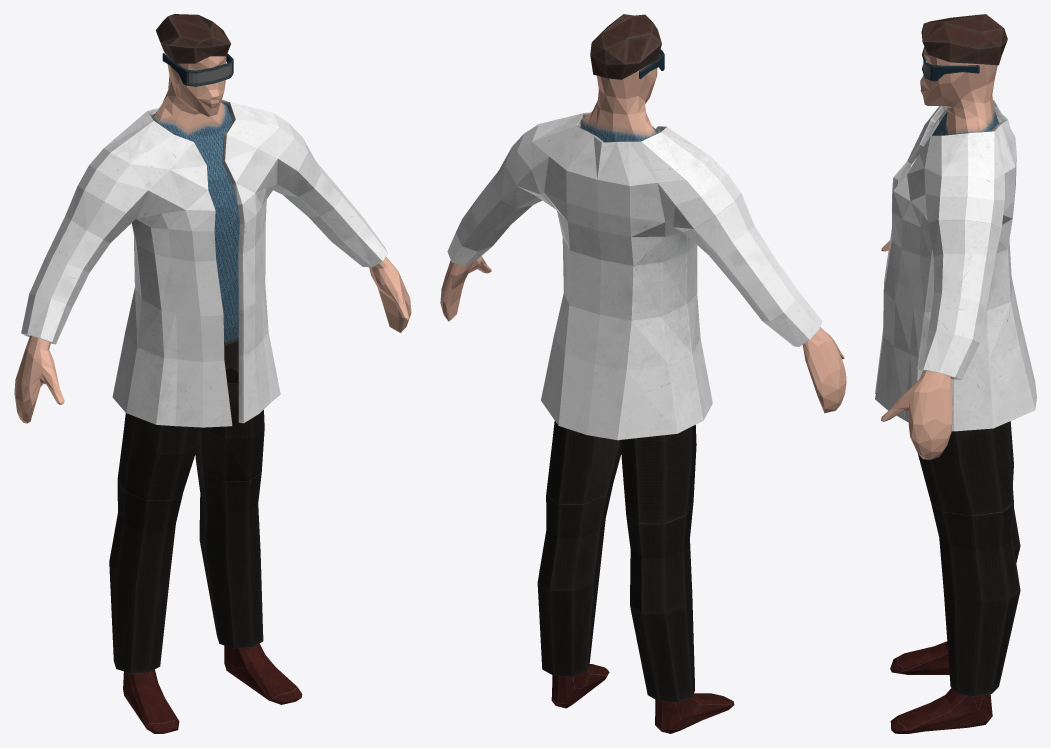
File: Scientist (no pose).fbx
3 views of the same model, side by side, from view 1: azimuth 30°, elevation 25°; view 2: azimuth 150°, elevation 25°; view 3: azimuth 270°, elevation 25° (orthographic). The views are drawn at different scales.
Visible parts, largest first — view 1: Scientist; view 2: Scientist; view 3: Scientist.
Part boxes in pixels (x1=…): Scientist: x1=14, y1=14, x2=411, y2=733; Scientist: x1=440, y1=14, x2=846, y2=733; Scientist: x1=875, y1=14, x2=1036, y2=733.
Bounding box in the file's own units: 166 × 275 × 59.35.
